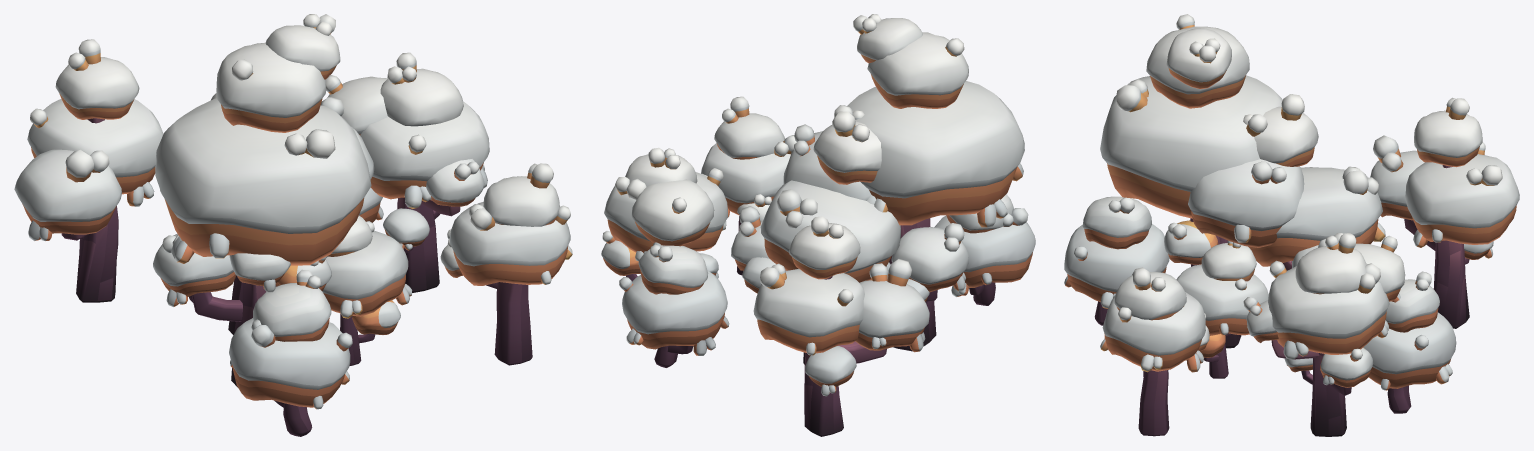
The model's file is grassland_tree_group_col2_snow.fbx.
The picture shows the model from 3 angles, left to right: view 1: azimuth 30°, elevation 25°; view 2: azimuth 150°, elevation 25°; view 3: azimuth 270°, elevation 25°; orthographic projection. The views are drawn at different scales.
Parts seen in each view (by area): view 1: grassland_tree_group_col2_snow; view 2: grassland_tree_group_col2_snow; view 3: grassland_tree_group_col2_snow.
Part boxes in pixels (box(x1,y1,x2,y2)): grassland_tree_group_col2_snow: box(14, 14, 572, 436); grassland_tree_group_col2_snow: box(601, 14, 1035, 436); grassland_tree_group_col2_snow: box(1064, 14, 1519, 436).
Size of the model in its own units: 1732 by 1490 by 1919.
